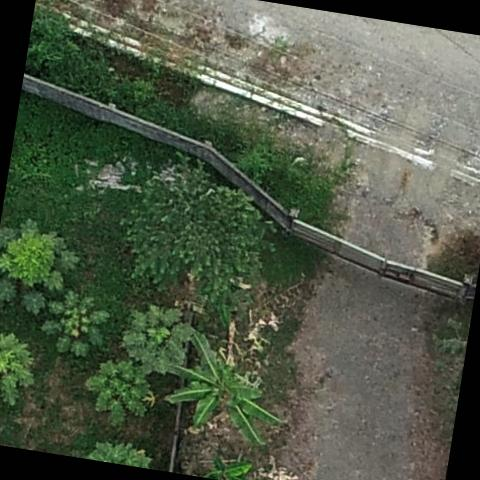Banana-plant: (149, 324, 289, 450), (191, 443, 261, 480)
